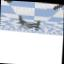drone: (16, 15, 41, 31)
